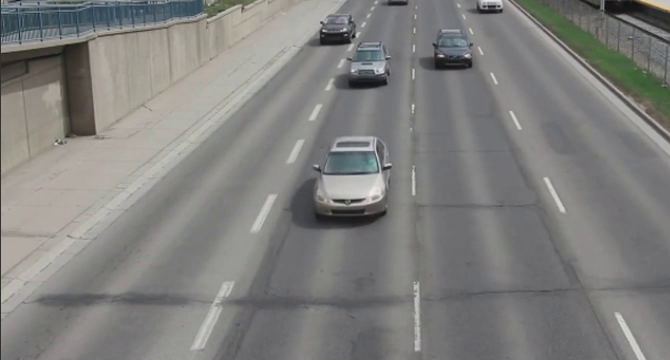car: (310, 133, 399, 228), (346, 42, 395, 89), (429, 28, 476, 70), (319, 10, 356, 45)
